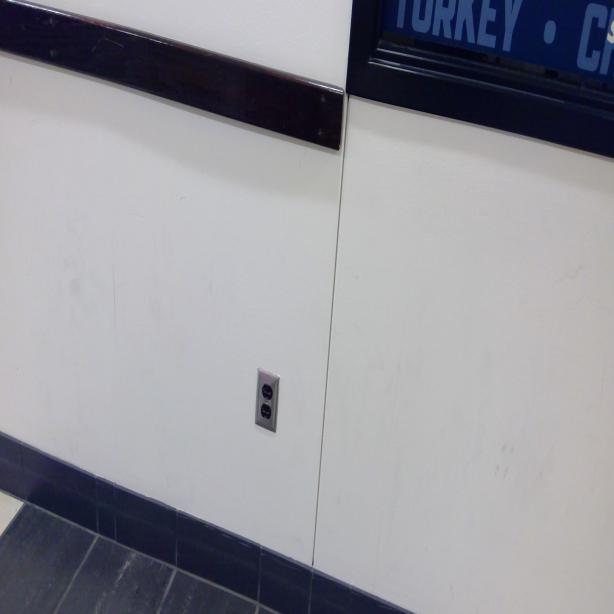typeb: (259, 404, 274, 423), (260, 381, 273, 402)
